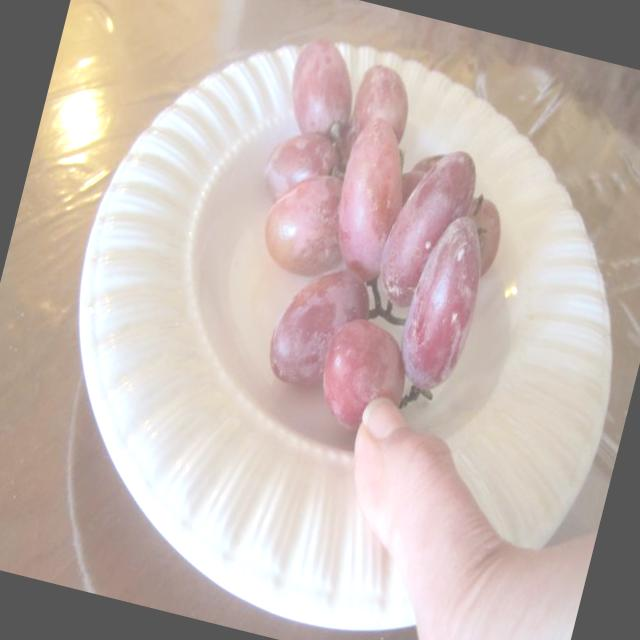Finger: (318, 390, 486, 582)
Grapes: (197, 27, 539, 422)
